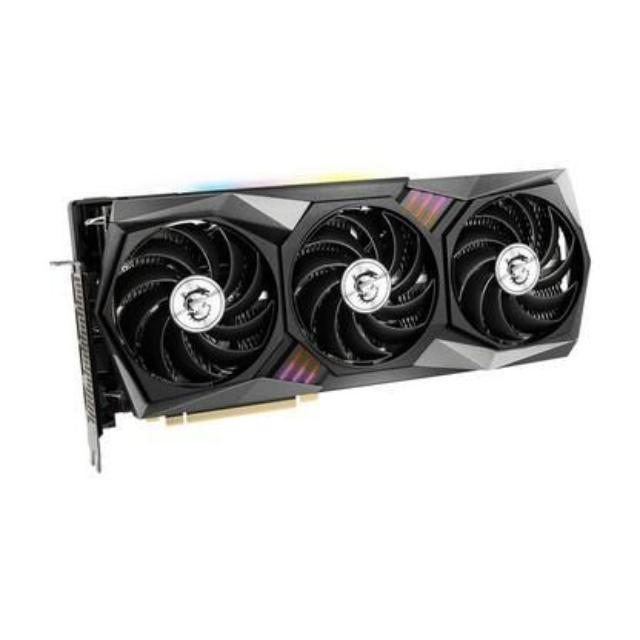GPU: (51, 176, 588, 427)
